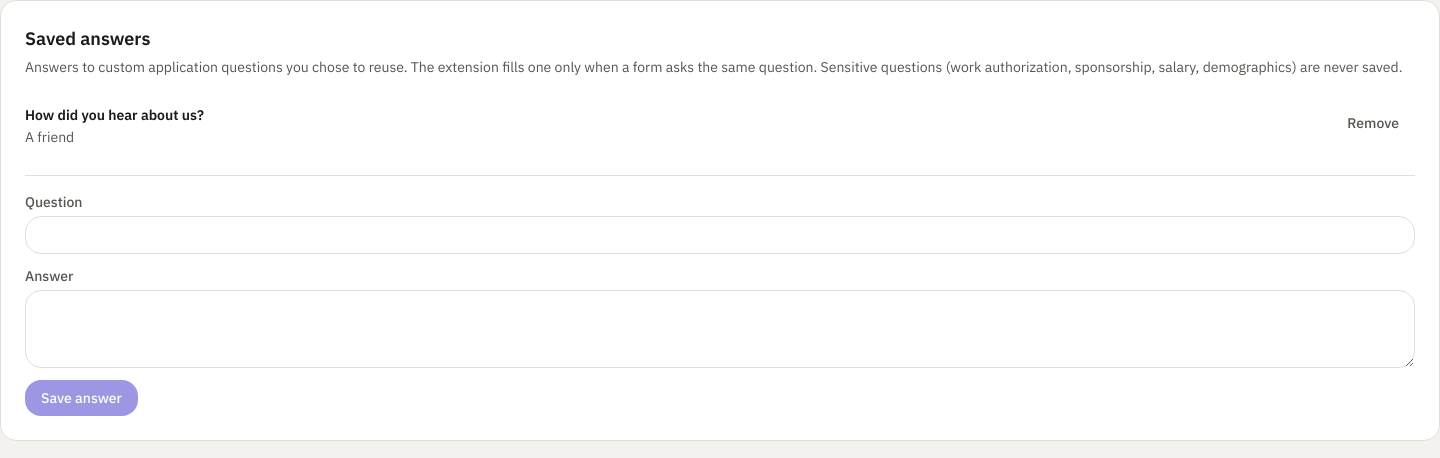
Test: SavedAnswersSection › lists saved answers and removes one on request
Expected: the text "A friend" is shown, [25,128,74,146]
What coordinates should you click on to do the following:
click the button with aria-label "Remove saved answer to: How did you hear about us?"
I would click on:
 (1373, 123)
Its box is [1331,105,1415,141].
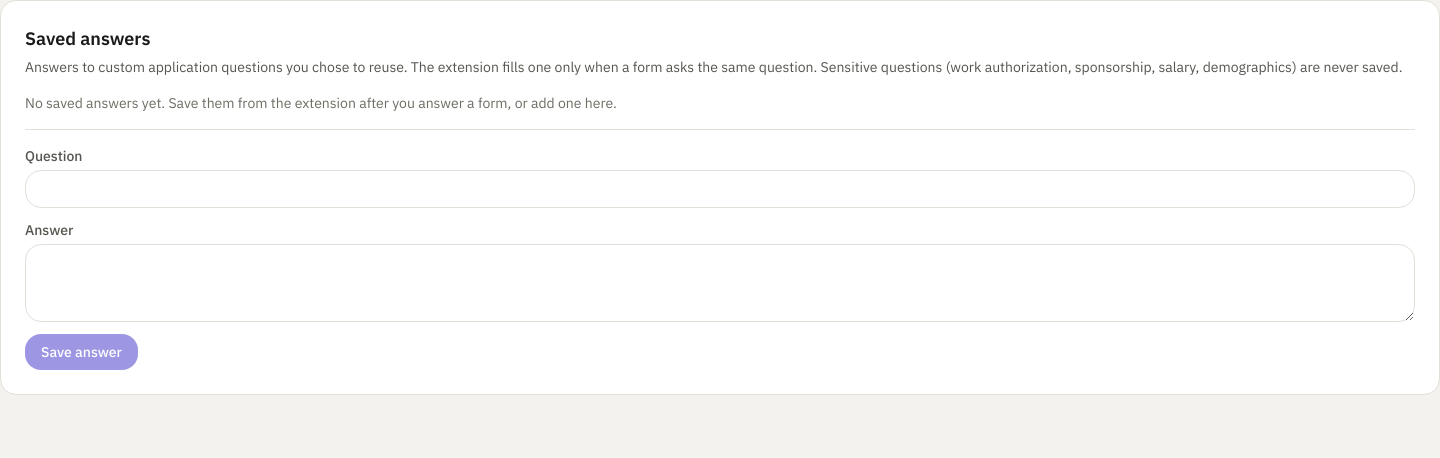
Expected: the text "A friend" is gone
